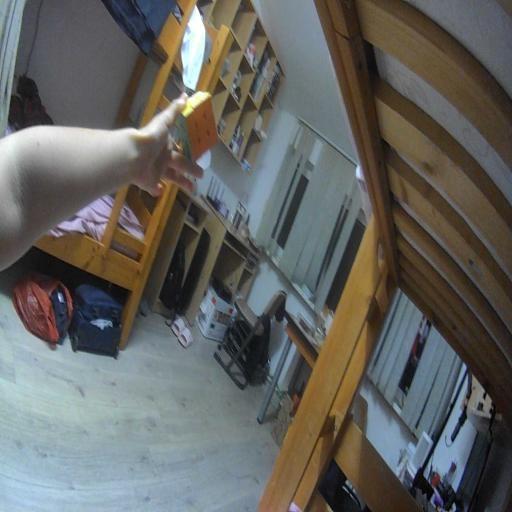Rubiks Cube: (176, 91, 220, 166)
